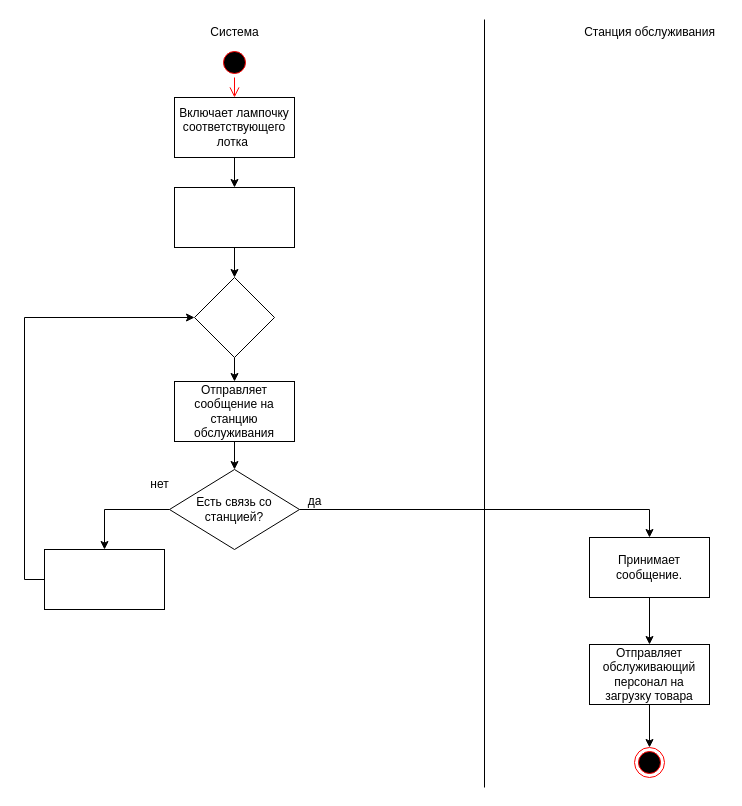
This 742x806 diagram has some shape labels left out. Each missing label, with the centre of its shape:
"Помещает уведомление в очередь" goes at point 104,579.
"Формирует сообщение об отсутствии товара" goes at point 234,217.
